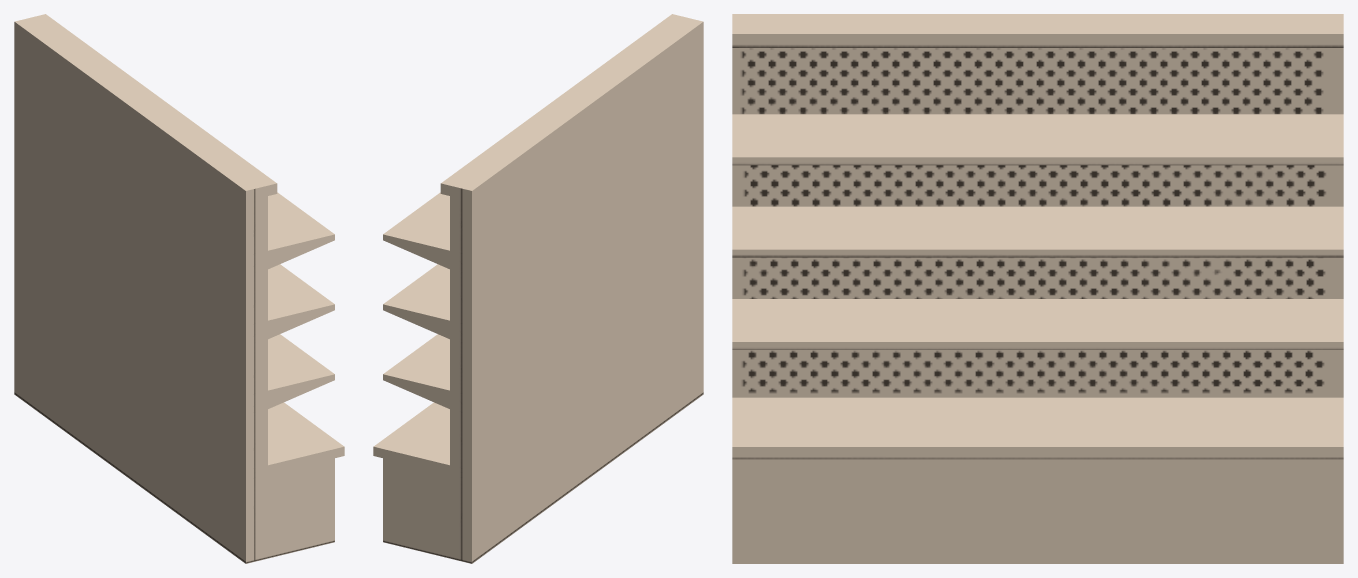
Rendered from StoreShelf.fbx.
The picture shows the model from 3 angles, left to right: view 1: azimuth 30°, elevation 25°; view 2: azimuth 150°, elevation 25°; view 3: azimuth 270°, elevation 25°; orthographic projection. The views are drawn at different scales.
Visible parts, largest first — view 1: Plane; view 2: Plane; view 3: Plane.
Boxes of the visible parts, <box> form: Plane: <box>14,14,344,563</box>; Plane: <box>373,14,703,563</box>; Plane: <box>732,14,1343,563</box>.
Bounding box in the file's own units: 221 × 800 × 900.
Materials: 1 (1 with a texture image).
